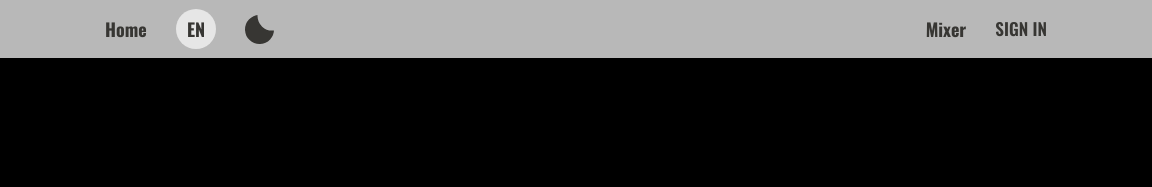
Header integration tests › должен открыть меню языков при клике
Step 1. Click the button "EN" → coordinates (196, 29), box [176,9,216,49]
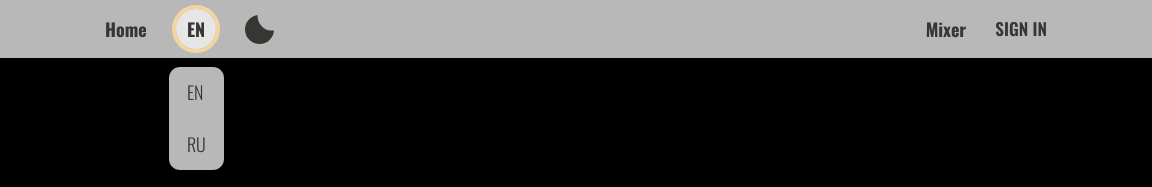
Expected: the option "RU" is shown, [187,130,206,159]
